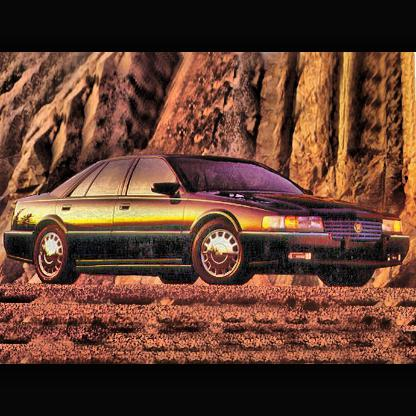Audi V8 Sedan 1994: (7, 157, 410, 286)
